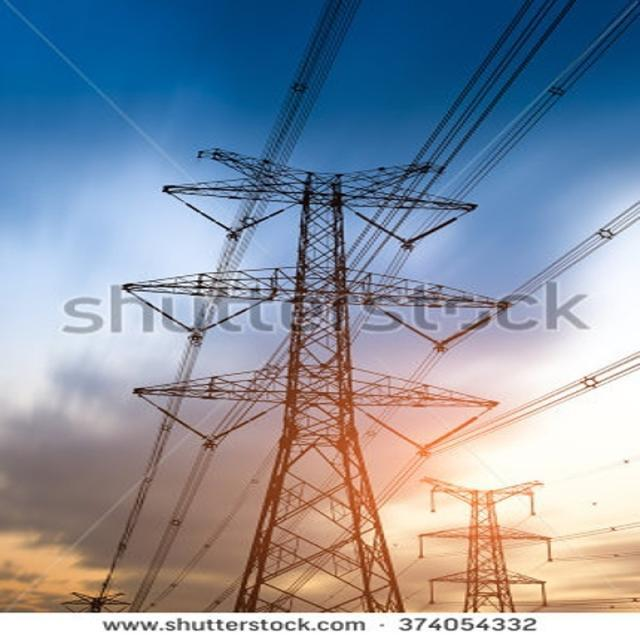non-critical vegetation: (126, 140, 520, 606), (412, 474, 564, 606)
